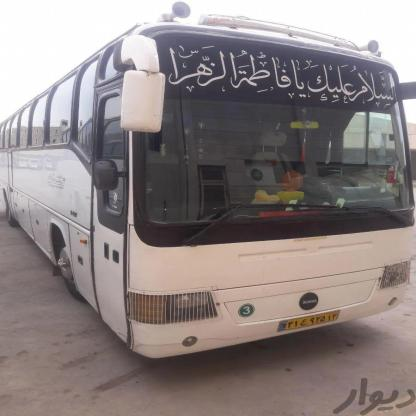Bus: (0, 21, 416, 354)
